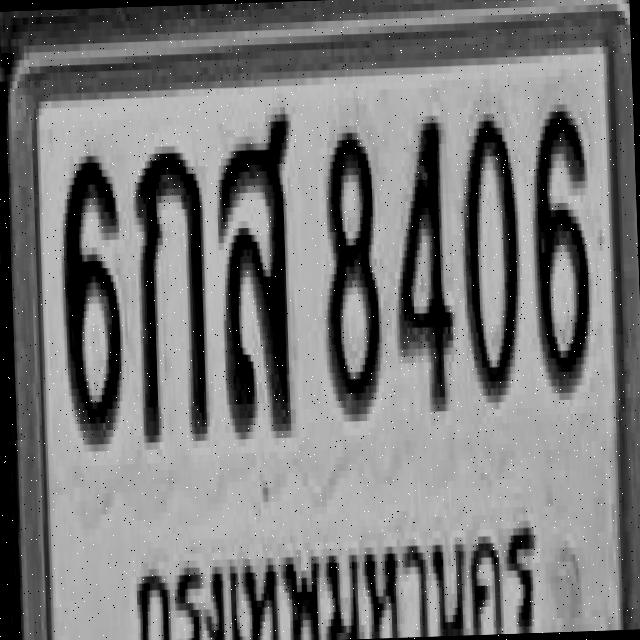0: (458, 105, 524, 402)
10GorGai: (131, 138, 210, 442)
4: (388, 108, 456, 412)
49SorSuea: (214, 106, 298, 432)
6: (58, 148, 124, 445), (528, 103, 592, 393)
8: (318, 125, 382, 415)
Bangkok: (127, 521, 540, 640)
